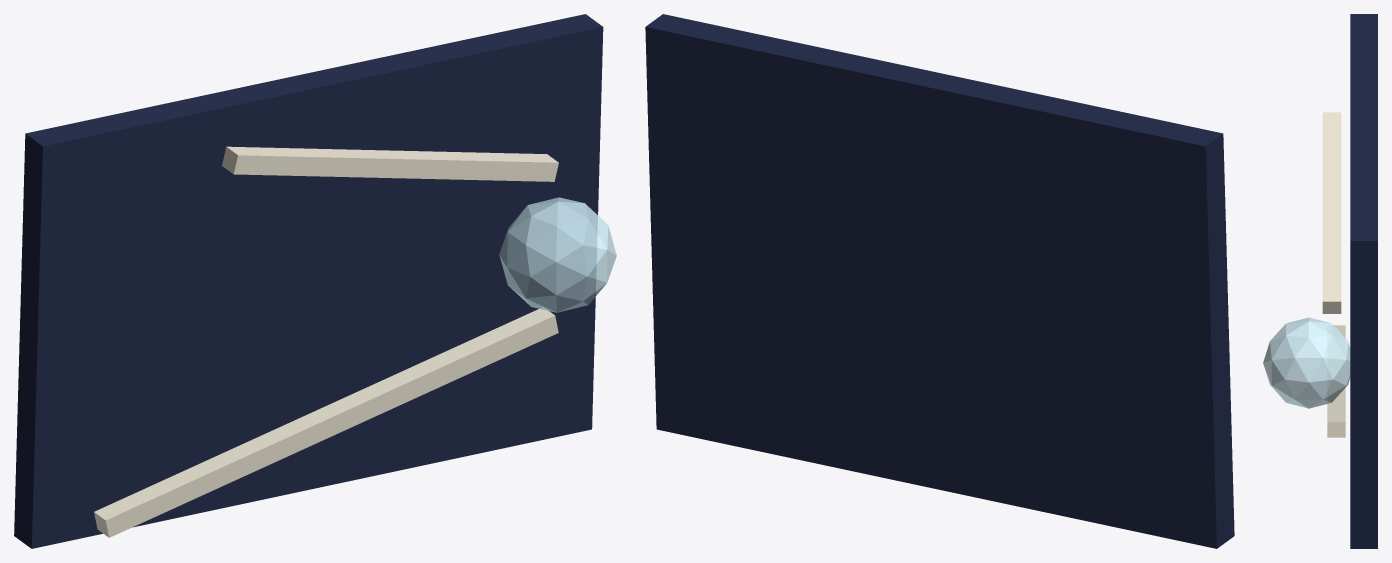
The model's file is 02_world_prop_polish.glb.
The picture shows the model from 3 angles, left to right: view 1: azimuth 30°, elevation 25°; view 2: azimuth 150°, elevation 25°; view 3: azimuth 270°, elevation 25°; orthographic projection. The views are drawn at different scales.
Parts seen in each view (by area): view 1: object_overlay_plate, edge_wear_a, glow_socket, edge_wear_b; view 2: object_overlay_plate; view 3: object_overlay_plate, glow_socket, edge_wear_b, edge_wear_a.
Part boxes in pixels (x1=…): object_overlay_plate: x1=14, y1=14, x2=603, y2=548; edge_wear_a: x1=94, y1=307, x2=558, y2=537; glow_socket: x1=499, y1=197, x2=616, y2=312; edge_wear_b: x1=222, y1=146, x2=558, y2=181; object_overlay_plate: x1=645, y1=14, x2=1234, y2=548; object_overlay_plate: x1=1350, y1=14, x2=1377, y2=548; glow_socket: x1=1263, y1=317, x2=1350, y2=408; edge_wear_b: x1=1322, y1=112, x2=1341, y2=313; edge_wear_a: x1=1327, y1=325, x2=1345, y2=437.
Bounding box in the file's own units: 1.12 × 0.7819 × 0.25.
